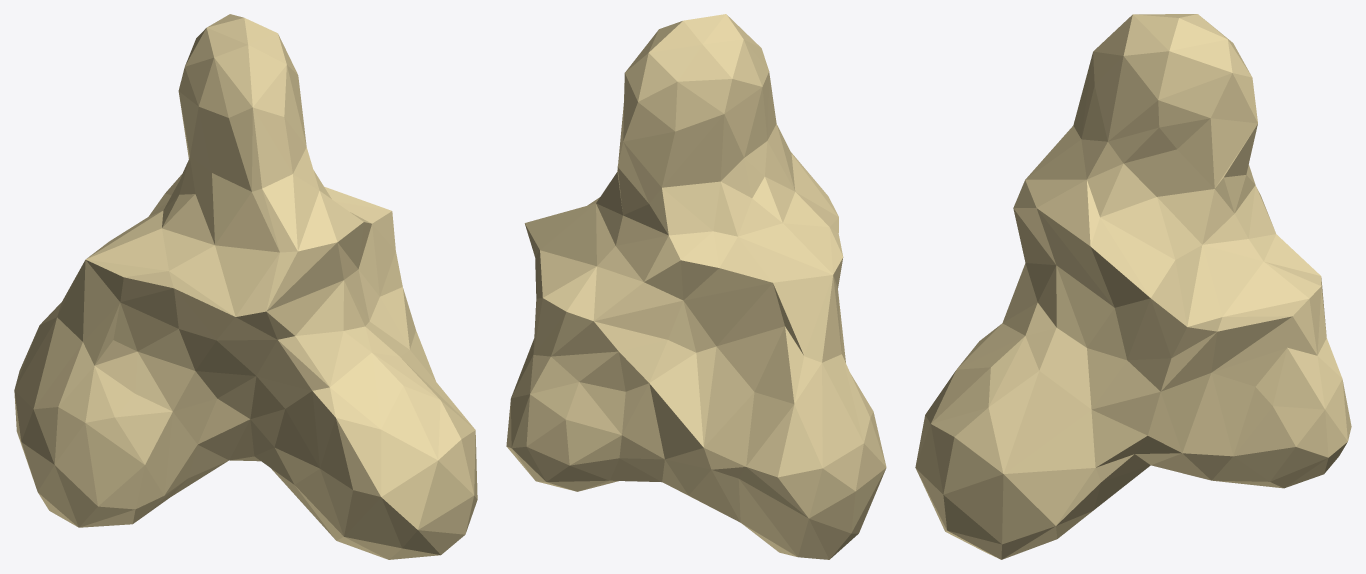
File: Asteroid (49).fbx
3 views of the same model, side by side, from view 1: azimuth 30°, elevation 25°; view 2: azimuth 150°, elevation 25°; view 3: azimuth 270°, elevation 25° (orthographic).
Parts seen in each view (by area): view 1: Asteroid136; view 2: Asteroid136; view 3: Asteroid136.
Boxes of the visible parts, x1,y1,x2,y2 form: Asteroid136: (14,14,477,559); Asteroid136: (506,14,886,559); Asteroid136: (915,14,1351,559).
Size of the model in its own units: 145 by 187 by 151.
